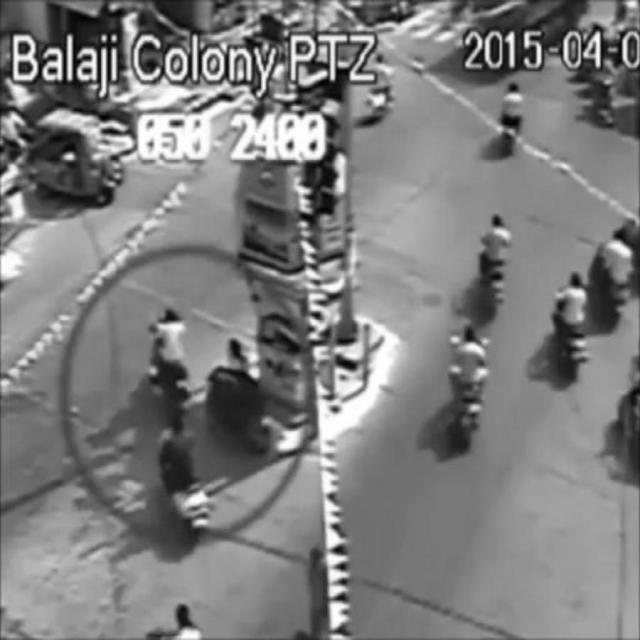vehicle: (37, 105, 120, 206), (208, 336, 272, 458), (156, 419, 211, 532), (148, 303, 190, 427), (451, 324, 485, 448), (554, 271, 589, 385), (591, 228, 632, 320), (476, 211, 510, 319), (365, 53, 395, 123), (498, 80, 524, 150)
